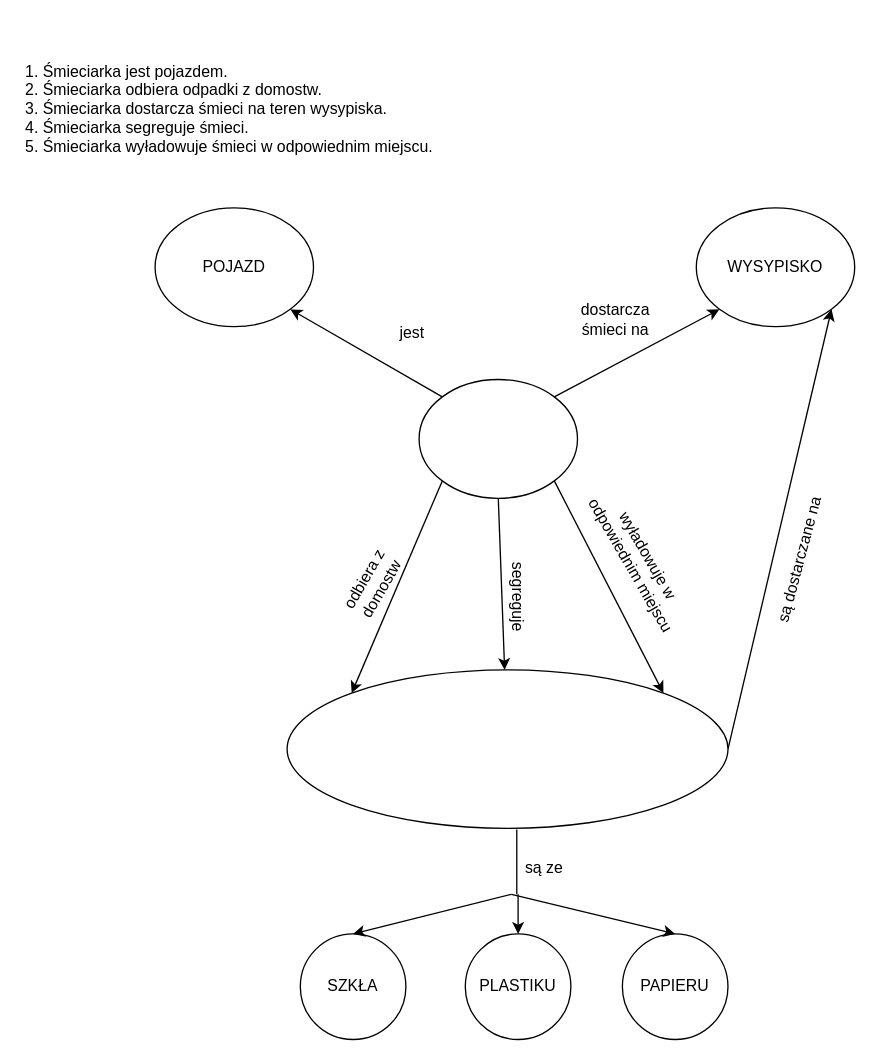
Image size: 880x1063. Some labels were removed from this diagram. The shapes that lost their labels are listed below. From the top down, each one's centre as x and y in pixels, then its label:
At (498,438): "ŚMIECIARKA".
At (507,748): "ŚMIECI".
